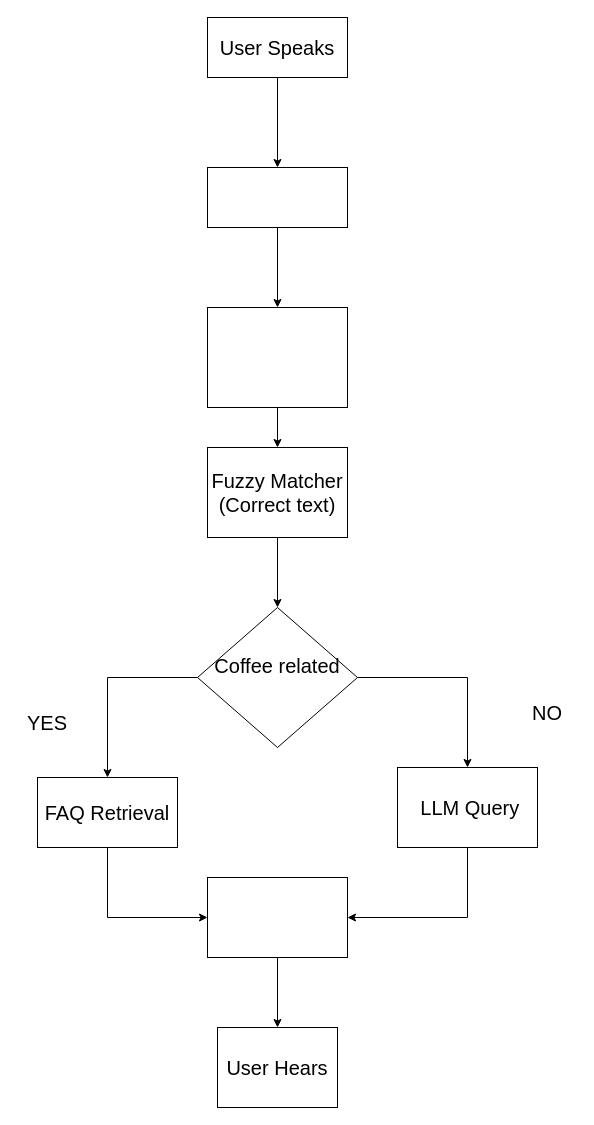
The diagram is 594 pixels wide and 1125 high, and some of its shapes have lost their labels. The centre of each missing label's shape, as x and y in pixels:
Microphone: the point at 277,197
STT (Speech Recognition): the point at 277,357
TTS Engine: the point at 277,917
